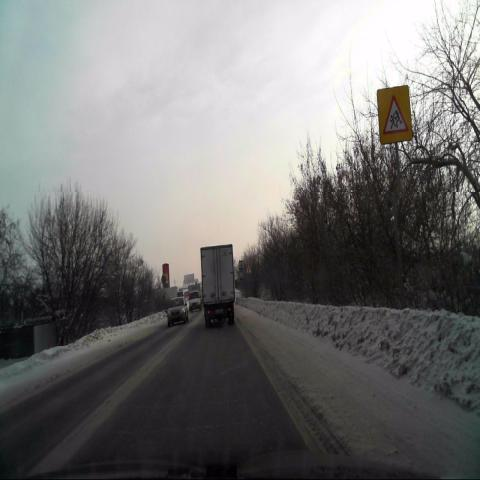1_23: (377, 86, 413, 146)
